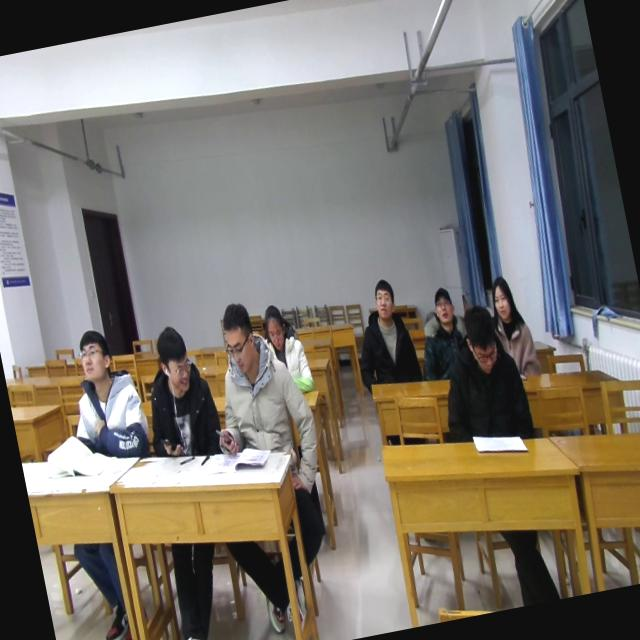down: (214, 297, 265, 379), (456, 300, 506, 381), (258, 300, 294, 356)
lookup: (70, 322, 116, 388), (482, 270, 520, 324), (366, 270, 402, 326), (426, 279, 456, 328)
sit: (190, 290, 322, 466), (424, 296, 538, 456), (57, 323, 155, 472), (131, 323, 225, 468), (342, 273, 425, 397), (408, 282, 480, 383), (483, 271, 544, 383), (255, 296, 316, 398)
